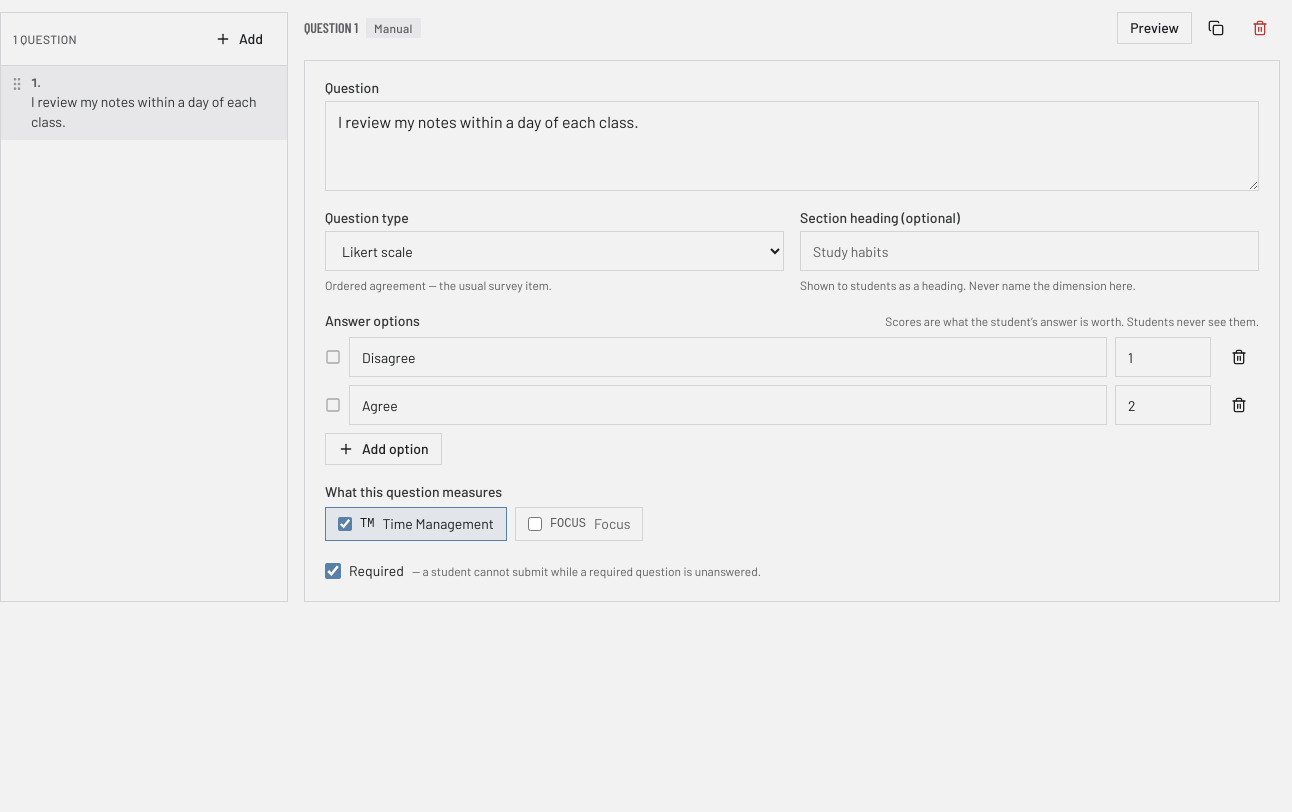
Test: the live preview › shows the student’s view without scores or dimensions
Click the button "Preview" at (1155, 28), box 1117,12 -> 1192,44
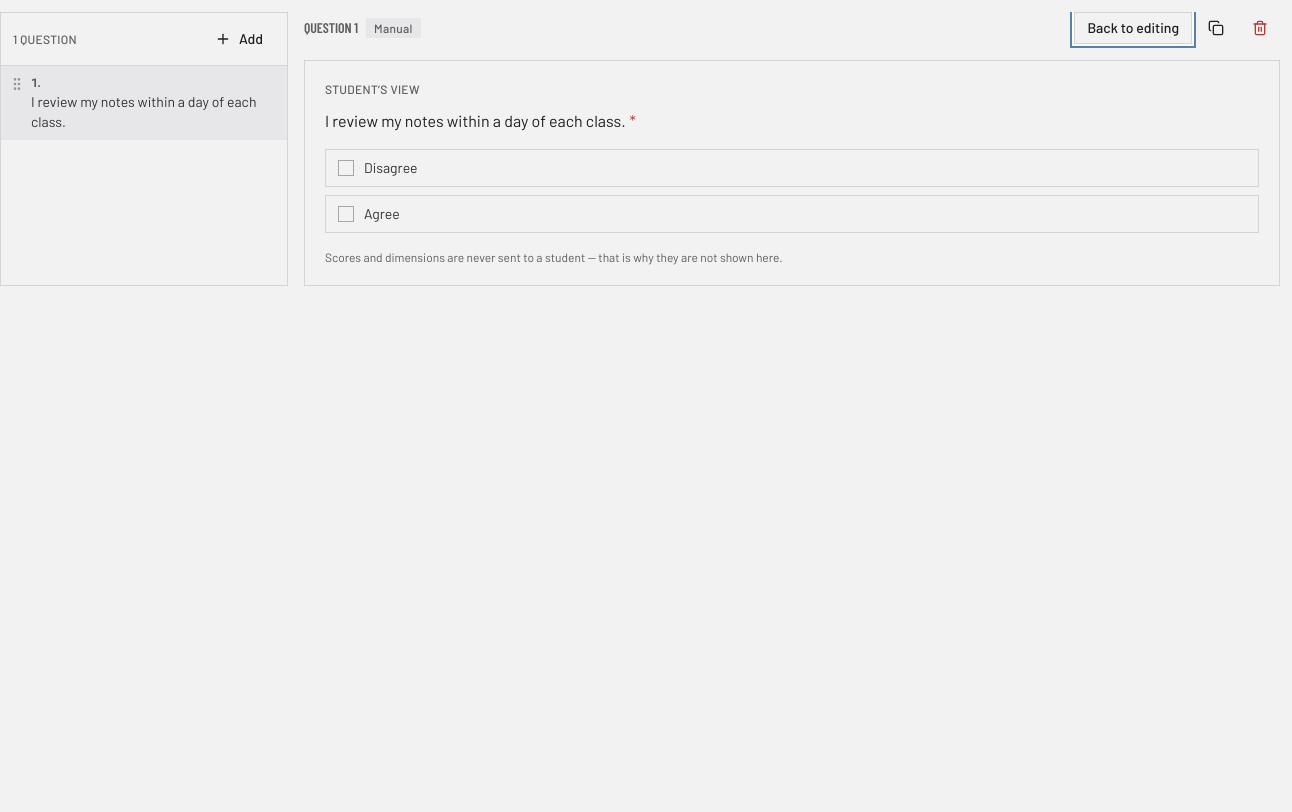
Expected: the text "Disagree" is shown, 325,149 -> 1259,187
Expected: the text "never sent to a student" is shown, 325,250 -> 782,264
